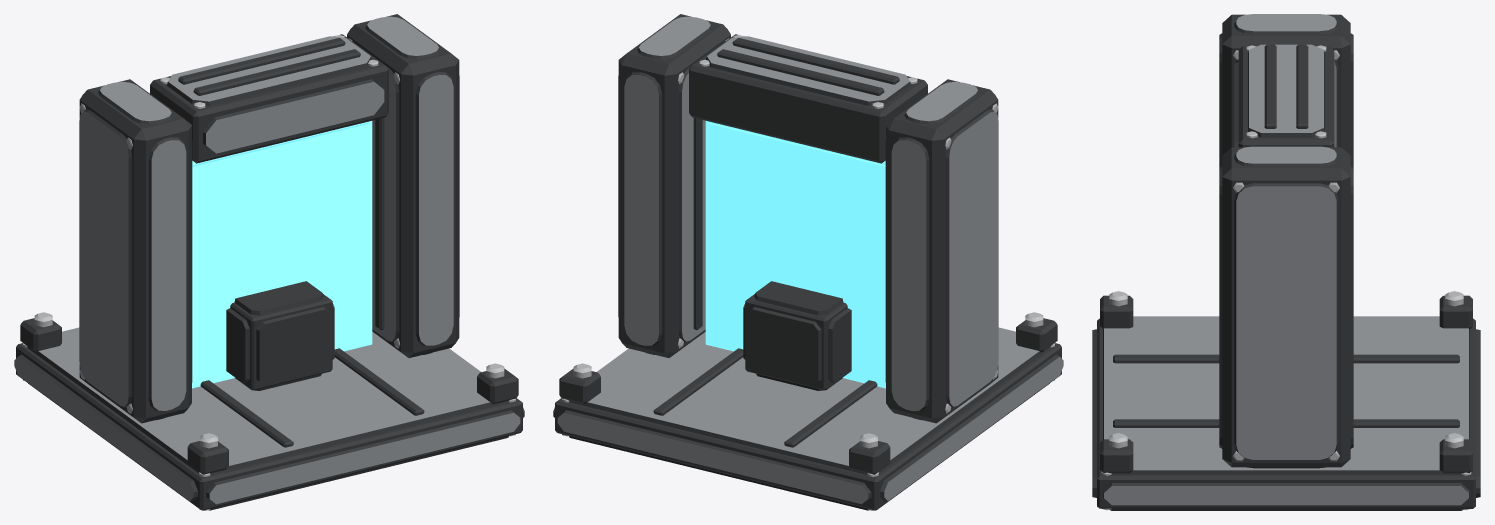
The model's file is R4X_StructuralScanner.fbx.
3 views of the same model, side by side, from view 1: azimuth 30°, elevation 25°; view 2: azimuth 150°, elevation 25°; view 3: azimuth 270°, elevation 25° (orthographic).
Parts seen in each view (by area): view 1: R4X_StructuralScanner_Body; view 2: R4X_StructuralScanner_Body; view 3: R4X_StructuralScanner_Body.
Part boxes in pixels (x1,y1,x2,y2): R4X_StructuralScanner_Body: (14,14,524,510); R4X_StructuralScanner_Body: (553,14,1063,510); R4X_StructuralScanner_Body: (1092,14,1480,510).
Size of the model in its own units: 0.52 by 0.517 by 0.52.
